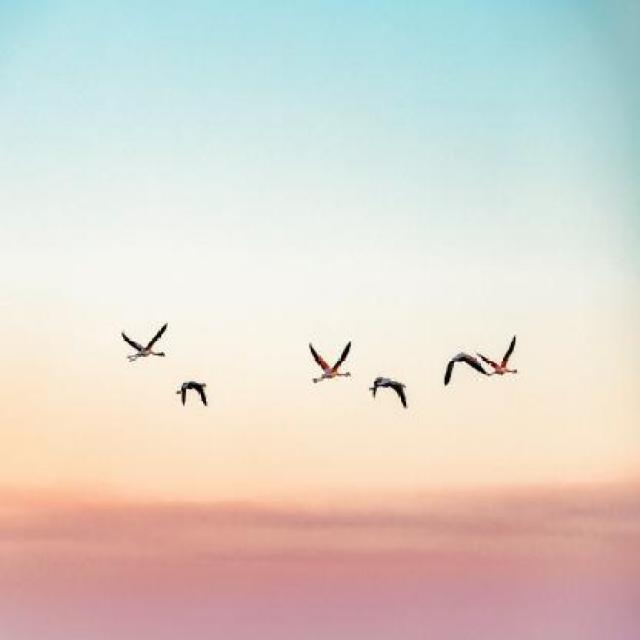bird: (309, 339, 351, 384), (120, 322, 168, 360), (476, 334, 518, 376), (444, 352, 490, 386), (370, 376, 408, 410), (176, 380, 209, 408)
